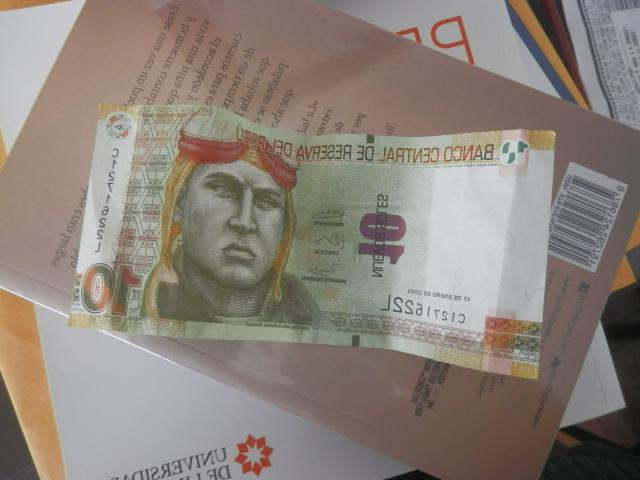B10: (45, 105, 566, 380)
